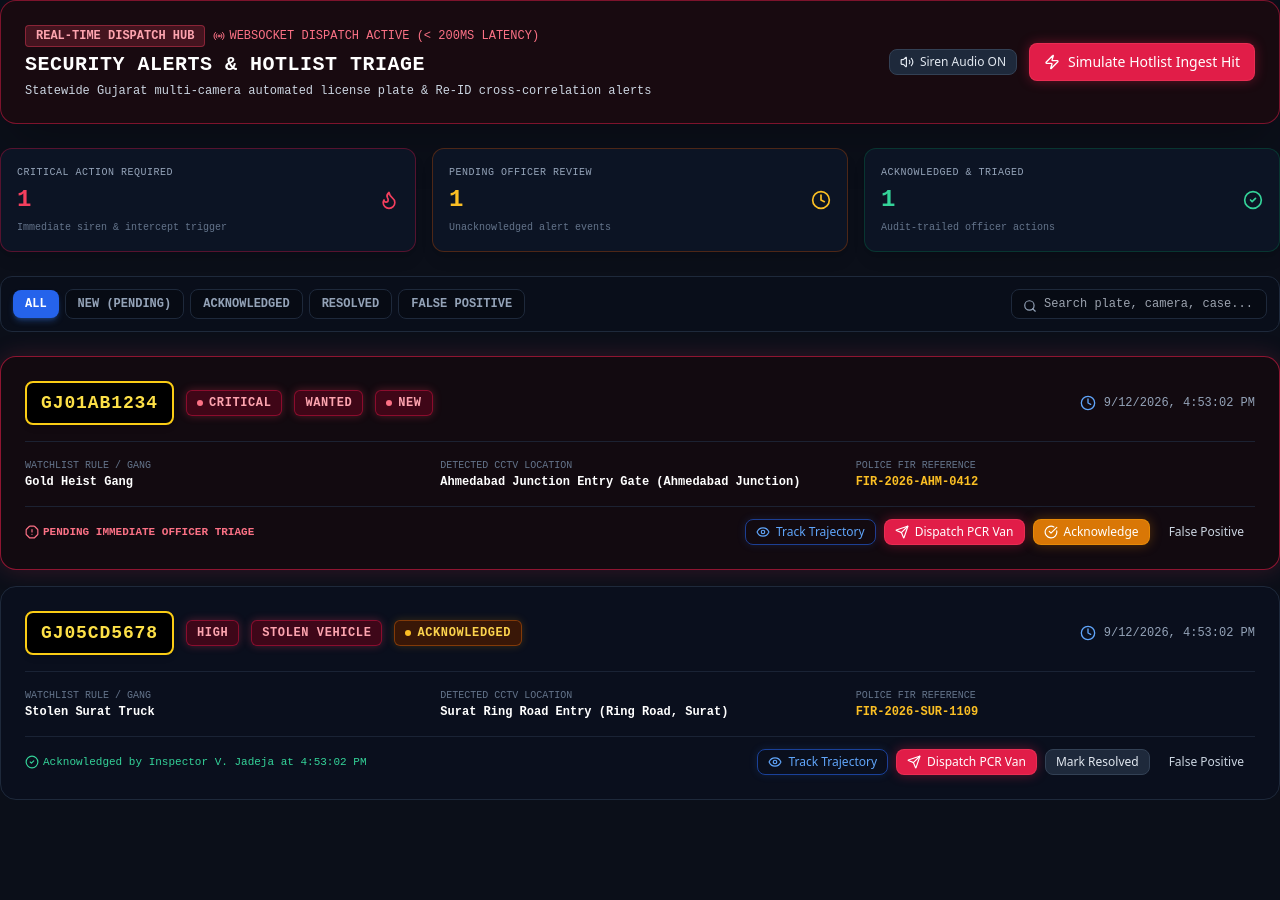
Vehicle Intelligence, Watchlists & Alert Triage UI (Module 27) › AlertsPage Component › acknowledges a pending alert when clicking Acknowledge
Click the button "Acknowledge": (1091,532) [1032, 519, 1150, 545]
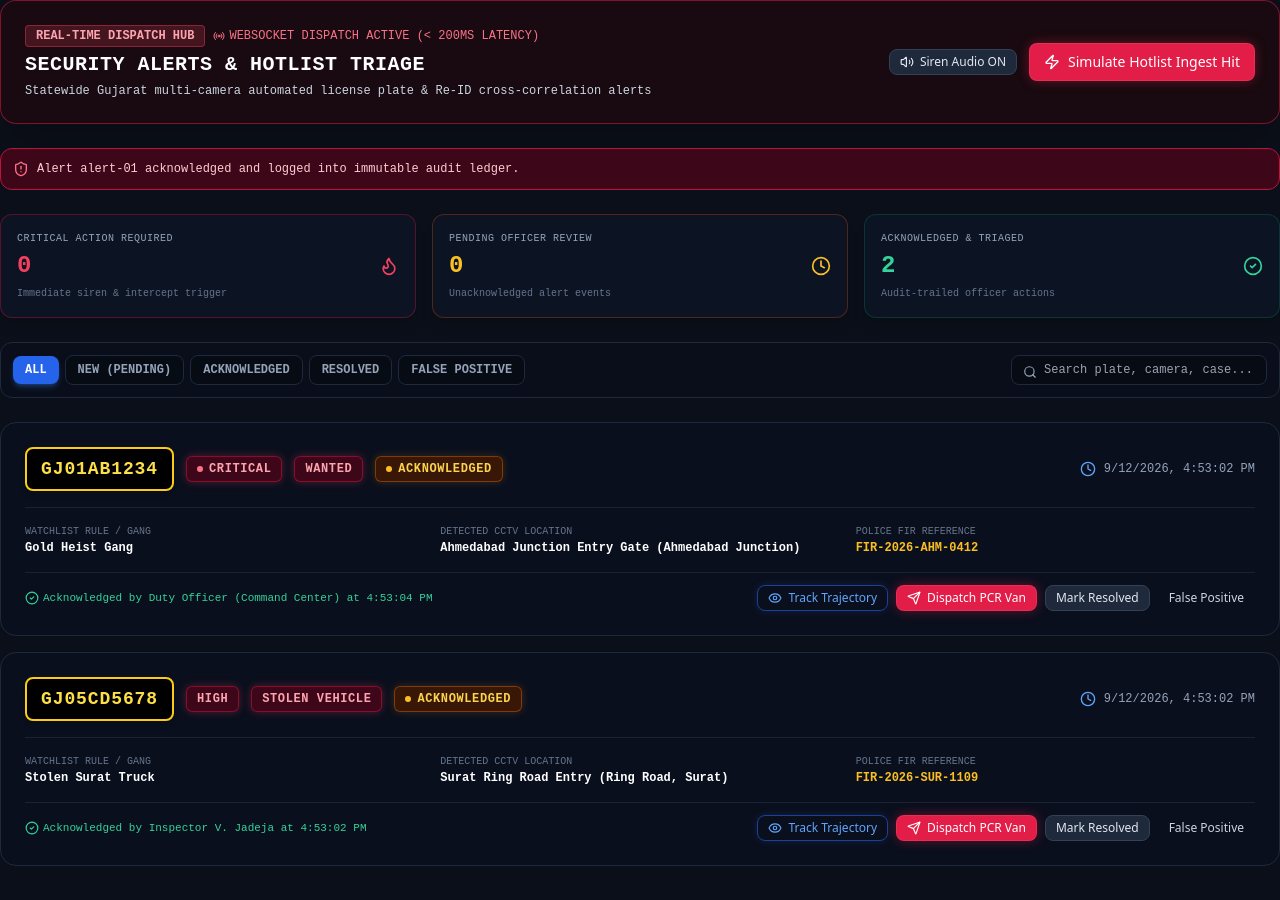
Result: the text "Acknowledged by Duty Officer (Command Center) at 4:53:04 PM" is shown at [25, 590, 432, 606]
